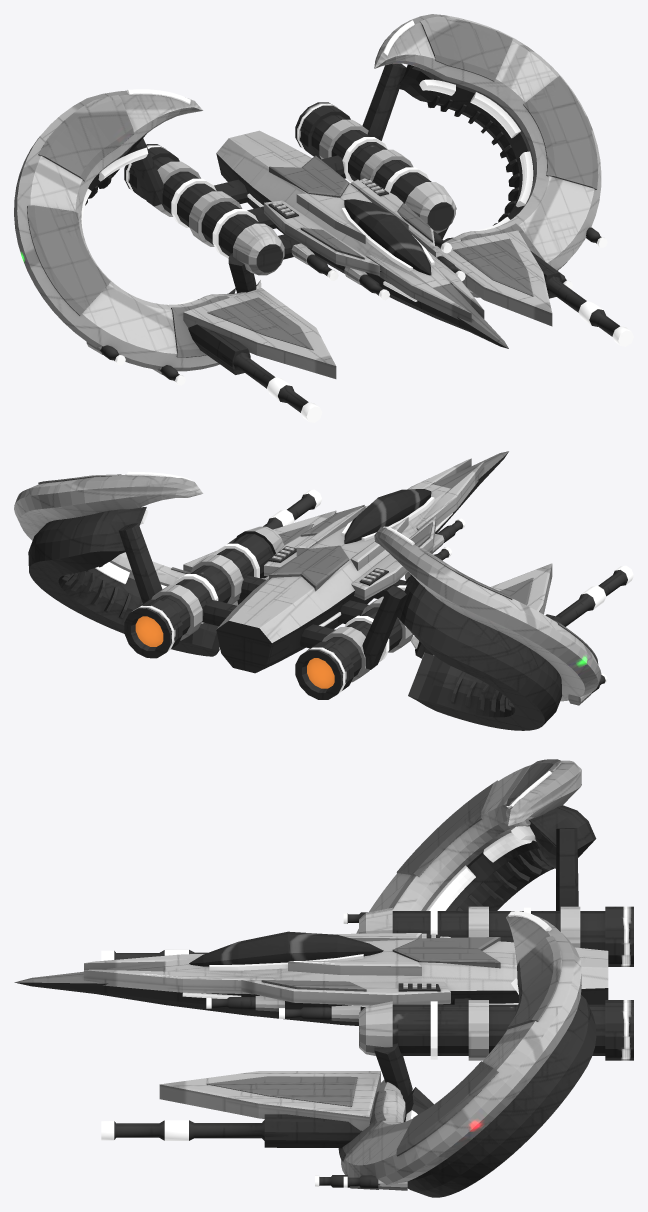
File: Storm.glb
The picture shows the model from 3 angles, top to bottom: view 1: azimuth 30°, elevation 25°; view 2: azimuth 150°, elevation 25°; view 3: azimuth 270°, elevation 25°; orthographic projection. The views are drawn at different scales.
Visible parts, largest first — view 1: Storm; view 2: Storm; view 3: Storm.
Boxes of the visible parts, x1,y1,x2,y2 form: Storm: (14, 14, 633, 422); Storm: (14, 451, 633, 730); Storm: (14, 759, 633, 1197).
Bounding box in the file's own units: 1.16 × 0.44 × 0.9877.
Materials: 6 (6 with a texture image).
